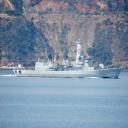Fragata: (13, 40, 125, 79)
